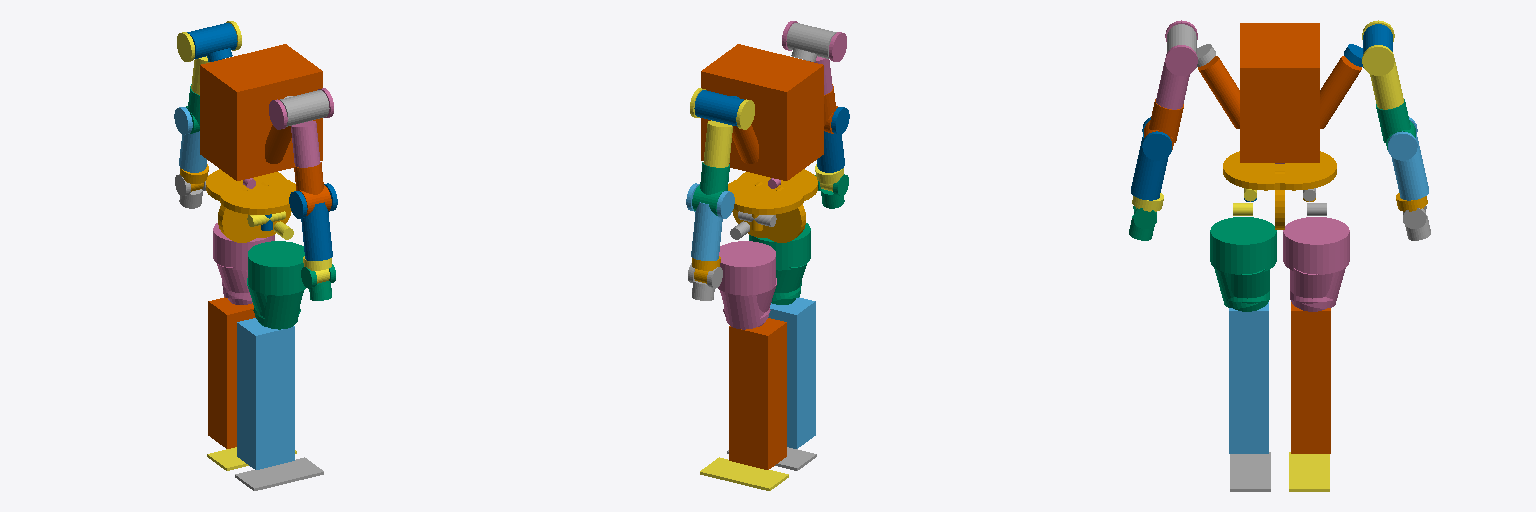
--- What the picture shows (computed from the rendered views, not written in the file) ---
The picture shows the robot from 3 angles, left to right: view 1: azimuth 30°, elevation 25°; view 2: azimuth 150°, elevation 25°; view 3: azimuth 270°, elevation 25°; orthographic projection.
Model atlas.urdf with 57 links and 56 joints (28 revolute, 28 fixed), rooted at base_link, posed every joint at zero.
Visible links, largest first — view 1: Utorso, RLleg, LLleg, RUleg, pelvis, LUleg, RLarm, RScap, RFoot, LClav, LLarm, RClav (+6 smaller); view 2: Utorso, LLleg, RLleg, LUleg, pelvis, RUleg, LLarm, LScap, LFoot, RClav, RLarm, LClav (+6 smaller); view 3: Utorso, RLleg, LLleg, RUleg, LUleg, pelvis, RLarm, LLarm, RScap, LScap, RFoot, LFoot (+6 smaller).
Boxes of the visible links, box(x1,y1,x2,y2) form: Utorso: box(200, 44, 322, 180); RLleg: box(237, 318, 294, 469); LLleg: box(208, 297, 255, 448); RUleg: box(247, 241, 305, 329); pelvis: box(206, 169, 295, 242); LUleg: box(213, 223, 274, 304); RLarm: box(289, 183, 337, 260); RScap: box(269, 88, 333, 167); RFoot: box(235, 457, 323, 490); LClav: box(187, 23, 237, 61); LLarm: box(174, 107, 206, 172); RClav: box(280, 90, 329, 126); Utorso: box(701, 44, 823, 180); LLleg: box(729, 318, 786, 469); RLleg: box(768, 297, 815, 448); LUleg: box(718, 241, 776, 329); pelvis: box(728, 169, 817, 242); RUleg: box(749, 223, 810, 304); LLarm: box(686, 183, 734, 260); LScap: box(690, 88, 754, 167); LFoot: box(700, 457, 788, 490); RClav: box(786, 23, 836, 61); RLarm: box(817, 107, 849, 172); LClav: box(694, 90, 743, 126); Utorso: box(1198, 23, 1361, 162); RLleg: box(1229, 302, 1268, 453); LLleg: box(1291, 302, 1330, 453); RUleg: box(1210, 217, 1276, 311); LUleg: box(1283, 217, 1349, 311); pelvis: box(1223, 151, 1336, 229); RLarm: box(1131, 117, 1171, 200); LLarm: box(1388, 117, 1428, 200); RScap: box(1156, 20, 1197, 109); LScap: box(1362, 20, 1403, 109); RFoot: box(1230, 452, 1270, 491); LFoot: box(1289, 452, 1329, 491).
Bounding box of the posed robot: 0.3215 × 0.9104 × 1.44 m (x, y, z).
Geometry: primitives only (box / cylinder / sphere), no mesh files.

The robot description file, URDF, robot "atlas.urdf":
<?xml version="1.0"?>
<robot name="atlas.urdf" xmlns:xacro="http://ros.org/wiki/xacro">
  <link name="base_link">
  </link>
  <joint name="RLegUhz" type="revolute">
    <parent link="base_link"/>
    <child link="RLegUhz"/>
    <axis xyz="0 0 1"/>
    <limit effort="260" lower="-1.14" upper="0.32" velocity="12"/>
    <origin xyz="0 -0.089 0" rpy="0 0 0"/>
  </joint>
  <link name="RLegUhz">
  </link>
  <joint name="RLegMhx" type="revolute">
    <parent link="RLegUhz"/>
    <child link="solid"/>
    <axis xyz="1 0 0"/>
    <limit effort="180" lower="-0.495" upper="0.47" velocity="12"/>
    <origin xyz="0 0 0" rpy="0 0 0"/>
  </joint>
  <link name="solid">
  </link>
  <joint name="RLegLhy" type="revolute">
    <parent link="solid"/>
    <child link="solid_0"/>
    <axis xyz="0 1 0"/>
    <limit effort="260" lower="-1.745" upper="0.524" velocity="12"/>
    <origin xyz="0.05 0 -0.05" rpy="0 0 0"/>
  </joint>
  <link name="solid_0">
  </link>
  <joint name="RLegKny" type="revolute">
    <parent link="solid_0"/>
    <child link="solid_1"/>
    <axis xyz="0 1 0"/>
    <limit effort="220" lower="0" upper="2.45" velocity="12"/>
    <origin xyz="-0.05 0 -0.374" rpy="0 0 0"/>
  </joint>
  <link name="solid_1">
  </link>
  <joint name="RLegUay" type="revolute">
    <parent link="solid_1"/>
    <child link="solid_2"/>
    <axis xyz="0 1 0"/>
    <limit effort="220" lower="-0.698" upper="0.698" velocity="12"/>
    <origin xyz="0 0 -0.422" rpy="0 0 0"/>
  </joint>
  <link name="solid_2">
  </link>
  <joint name="RLegLax" type="revolute">
    <parent link="solid_2"/>
    <child link="solid_3"/>
    <axis xyz="1 0 0"/>
    <limit effort="90" lower="-0.436" upper="0.436" velocity="12"/>
    <origin xyz="0 0 0" rpy="0 0 0"/>
  </joint>
  <link name="solid_3">
  </link>
  <link name="RFoot">
    <visual>
      <origin xyz="0.048 0 -0.076119" rpy="0 0 0"/>
      <geometry>
        <box size="0.26 0.124887 0.01"/>
      </geometry>
    </visual>
    <collision>
      <origin xyz="0.048 0 -0.076119" rpy="0 0 0"/>
      <geometry>
        <box size="0.26 0.124887 0.01"/>
      </geometry>
    </collision>
  </link>
  <joint name="solid_3_RFoot_joint" type="fixed">
    <parent link="solid_3"/>
    <child link="RFoot"/>
    <origin xyz="0 0 0" rpy="0 0 0"/>
  </joint>
  <link name="RTalus">
    <visual>
      <origin xyz="0 0 0" rpy="3.141193 1.570793 -3.141193"/>
      <geometry>
        <cylinder radius="0.010181" length="0.029542"/>
      </geometry>
    </visual>
    <collision>
      <origin xyz="0 0 0" rpy="3.141193 1.570793 -3.141193"/>
      <geometry>
        <cylinder radius="0.010181" length="0.029542"/>
      </geometry>
    </collision>
    <visual>
      <origin xyz="0 0 0" rpy="1.57 0 0"/>
      <geometry>
        <cylinder radius="0.010348" length="0.010059"/>
      </geometry>
    </visual>
    <collision>
      <origin xyz="0 0 0" rpy="1.57 0 0"/>
      <geometry>
        <cylinder radius="0.010348" length="0.010059"/>
      </geometry>
    </collision>
  </link>
  <joint name="solid_2_RTalus_joint" type="fixed">
    <parent link="solid_2"/>
    <child link="RTalus"/>
    <origin xyz="0 0 0" rpy="0 0 0"/>
  </joint>
  <link name="RLleg">
    <visual>
      <origin xyz="-0.00345 -0.00295 -0.1913" rpy="0 0 0"/>
      <geometry>
        <box size="0.1465 0.1205 0.476"/>
      </geometry>
    </visual>
    <collision>
      <origin xyz="-0.00345 -0.00295 -0.1913" rpy="0 0 0"/>
      <geometry>
        <box size="0.1465 0.1205 0.476"/>
      </geometry>
    </collision>
  </link>
  <joint name="solid_1_RLleg_joint" type="fixed">
    <parent link="solid_1"/>
    <child link="RLleg"/>
    <origin xyz="0 0 0" rpy="0 0 0"/>
  </joint>
  <link name="RUleg">
    <visual>
      <origin xyz="-0.0179 -0.02085 -0.13" rpy="0 0 0"/>
      <geometry>
        <cylinder radius="0.1" length="0.1"/>
      </geometry>
    </visual>
    <collision>
      <origin xyz="-0.0179 -0.02085 -0.13" rpy="0 0 0"/>
      <geometry>
        <cylinder radius="0.1" length="0.1"/>
      </geometry>
    </collision>
    <visual>
      <origin xyz="-0.03 -0.01 -0.23" rpy="-0.0008 -0.299999 0"/>
      <geometry>
        <cylinder radius="0.07" length="0.15"/>
      </geometry>
    </visual>
    <collision>
      <origin xyz="-0.03 -0.01 -0.23" rpy="-0.0008 -0.299999 0"/>
      <geometry>
        <cylinder radius="0.07" length="0.15"/>
      </geometry>
    </collision>
    <visual>
      <origin xyz="-0.005 -0.01 -0.23" rpy="-0.0008 0.299999 0"/>
      <geometry>
        <cylinder radius="0.07" length="0.15"/>
      </geometry>
    </visual>
    <collision>
      <origin xyz="-0.005 -0.01 -0.23" rpy="-0.0008 0.299999 0"/>
      <geometry>
        <cylinder radius="0.07" length="0.15"/>
      </geometry>
    </collision>
    <visual>
      <origin xyz="-0.02 -0.03 -0.23" rpy="0.2492 0 0"/>
      <geometry>
        <cylinder radius="0.07" length="0.15"/>
      </geometry>
    </visual>
    <collision>
      <origin xyz="-0.02 -0.03 -0.23" rpy="0.2492 0 0"/>
      <geometry>
        <cylinder radius="0.07" length="0.15"/>
      </geometry>
    </collision>
  </link>
  <joint name="solid_0_RUleg_joint" type="fixed">
    <parent link="solid_0"/>
    <child link="RUleg"/>
    <origin xyz="0 0 0" rpy="0 0 0"/>
  </joint>
  <link name="RLglut">
    <visual>
      <origin xyz="0.049968 -0.022488 -0.050117" rpy="1.5708 0 0"/>
      <geometry>
        <cylinder radius="0.0200969" length="0.060306"/>
      </geometry>
    </visual>
    <collision>
      <origin xyz="0.049968 -0.022488 -0.050117" rpy="1.5708 0 0"/>
      <geometry>
        <cylinder radius="0.0200969" length="0.060306"/>
      </geometry>
    </collision>
    <visual>
      <origin xyz="0 0 0" rpy="3.141193 1.570793 -3.141193"/>
      <geometry>
        <cylinder radius="0.02" length="0.12"/>
      </geometry>
    </visual>
    <collision>
      <origin xyz="0 0 0" rpy="3.141193 1.570793 -3.141193"/>
      <geometry>
        <cylinder radius="0.02" length="0.12"/>
      </geometry>
    </collision>
  </link>
  <joint name="solid_RLglut_joint" type="fixed">
    <parent link="solid"/>
    <child link="RLglut"/>
    <origin xyz="0 0 0" rpy="0 0 0"/>
  </joint>
  <link name="RUglut">
    <visual>
      <origin xyz="0 0 0" rpy="3.141193 1.570793 -3.141193"/>
      <geometry>
        <cylinder radius="0.019096" length="0.078396"/>
      </geometry>
    </visual>
    <collision>
      <origin xyz="0 0 0" rpy="3.141193 1.570793 -3.141193"/>
      <geometry>
        <cylinder radius="0.019096" length="0.078396"/>
      </geometry>
    </collision>
    <visual>
      <geometry>
        <cylinder radius="0.019841" length="0.080842"/>
      </geometry>
    </visual>
    <collision>
      <geometry>
        <cylinder radius="0.019841" length="0.080842"/>
      </geometry>
    </collision>
  </link>
  <joint name="RLegUhz_RUglut_joint" type="fixed">
    <parent link="RLegUhz"/>
    <child link="RUglut"/>
    <origin xyz="0 0 0" rpy="0 0 0"/>
  </joint>
  <joint name="LLegUhz" type="revolute">
    <parent link="base_link"/>
    <child link="LLegUhz"/>
    <axis xyz="0 0 1"/>
    <limit effort="110" lower="-0.32" upper="1.14" velocity="12"/>
    <origin xyz="0 0.089 0" rpy="0 0 0"/>
  </joint>
  <link name="LLegUhz">
  </link>
  <joint name="LLegMhx" type="revolute">
    <parent link="LLegUhz"/>
    <child link="solid_4"/>
    <axis xyz="1 0 0"/>
    <limit effort="180" lower="-0.47" upper="0.495" velocity="12"/>
    <origin xyz="0 0 0" rpy="0 0 0"/>
  </joint>
  <link name="solid_4">
  </link>
  <joint name="LLegLhy" type="revolute">
    <parent link="solid_4"/>
    <child link="solid_5"/>
    <axis xyz="0 1 0"/>
    <limit effort="260" lower="-1.75" upper="0.524" velocity="12"/>
    <origin xyz="0.05 0 -0.05" rpy="0 0 0"/>
  </joint>
  <link name="solid_5">
  </link>
  <joint name="LLegKny" type="revolute">
    <parent link="solid_5"/>
    <child link="solid_6"/>
    <axis xyz="0 1 0"/>
    <limit effort="220" lower="0" upper="2.45" velocity="12"/>
    <origin xyz="-0.05 0 -0.374" rpy="0 0 0"/>
  </joint>
  <link name="solid_6">
  </link>
  <joint name="LLegUay" type="revolute">
    <parent link="solid_6"/>
    <child link="solid_7"/>
    <axis xyz="0 1 0"/>
    <limit effort="220" lower="-0.698" upper="0.698" velocity="12"/>
    <origin xyz="0 0 -0.422" rpy="0 0 0"/>
  </joint>
  <link name="solid_7">
  </link>
  <joint name="LLegLax" type="revolute">
    <parent link="solid_7"/>
    <child link="solid_8"/>
    <axis xyz="1 0 0"/>
    <limit effort="90" lower="-0.436" upper="0.436" velocity="12"/>
    <origin xyz="0 0 0" rpy="0 0 0"/>
  </joint>
  <link name="solid_8">
  </link>
  <link name="LFoot">
    <visual>
      <origin xyz="0.048 0 -0.076119" rpy="0 0 0"/>
      <geometry>
        <box size="0.26 0.124887 0.01"/>
      </geometry>
    </visual>
    <collision>
      <origin xyz="0.048 0 -0.076119" rpy="0 0 0"/>
      <geometry>
        <box size="0.26 0.124887 0.01"/>
      </geometry>
    </collision>
  </link>
  <joint name="solid_8_LFoot_joint" type="fixed">
    <parent link="solid_8"/>
    <child link="LFoot"/>
    <origin xyz="0 0 0" rpy="0 0 0"/>
  </joint>
  <link name="LTalus">
    <visual>
      <origin xyz="0 0 0" rpy="3.141193 1.570793 -3.141193"/>
      <geometry>
        <cylinder radius="0.010181" length="0.029542"/>
      </geometry>
    </visual>
    <collision>
      <origin xyz="0 0 0" rpy="3.141193 1.570793 -3.141193"/>
      <geometry>
        <cylinder radius="0.010181" length="0.029542"/>
      </geometry>
    </collision>
    <visual>
      <origin xyz="0 0 0" rpy="1.5708 0 0"/>
      <geometry>
        <cylinder radius="0.010348" length="0.010059"/>
      </geometry>
    </visual>
    <collision>
      <origin xyz="0 0 0" rpy="1.5708 0 0"/>
      <geometry>
        <cylinder radius="0.010348" length="0.010059"/>
      </geometry>
    </collision>
  </link>
  <joint name="solid_7_LTalus_joint" type="fixed">
    <parent link="solid_7"/>
    <child link="LTalus"/>
    <origin xyz="0 0 0" rpy="0 0 0"/>
  </joint>
  <link name="LLleg">
    <visual>
      <origin xyz="-0.00345 0.00295 -0.1913" rpy="0 0 0"/>
      <geometry>
        <box size="0.1465 0.1205 0.476"/>
      </geometry>
    </visual>
    <collision>
      <origin xyz="-0.00345 0.00295 -0.1913" rpy="0 0 0"/>
      <geometry>
        <box size="0.1465 0.1205 0.476"/>
      </geometry>
    </collision>
  </link>
  <joint name="solid_6_LLleg_joint" type="fixed">
    <parent link="solid_6"/>
    <child link="LLleg"/>
    <origin xyz="0 0 0" rpy="0 0 0"/>
  </joint>
  <link name="LUleg">
    <visual>
      <origin xyz="-0.0179 0.02085 -0.13" rpy="0 0 0"/>
      <geometry>
        <cylinder radius="0.1" length="0.1"/>
      </geometry>
    </visual>
    <collision>
      <origin xyz="-0.0179 0.02085 -0.13" rpy="0 0 0"/>
      <geometry>
        <cylinder radius="0.1" length="0.1"/>
      </geometry>
    </collision>
    <visual>
      <origin xyz="-0.03 0.01 -0.23" rpy="-0.0008 -0.299999 0"/>
      <geometry>
        <cylinder radius="0.07" length="0.15"/>
      </geometry>
    </visual>
    <collision>
      <origin xyz="-0.03 0.01 -0.23" rpy="-0.0008 -0.299999 0"/>
      <geometry>
        <cylinder radius="0.07" length="0.15"/>
      </geometry>
    </collision>
    <visual>
      <origin xyz="-0.005 0.01 -0.23" rpy="-0.0008 0.299999 0"/>
      <geometry>
        <cylinder radius="0.07" length="0.15"/>
      </geometry>
    </visual>
    <collision>
      <origin xyz="-0.005 0.01 -0.23" rpy="-0.0008 0.299999 0"/>
      <geometry>
        <cylinder radius="0.07" length="0.15"/>
      </geometry>
    </collision>
    <visual>
      <origin xyz="-0.02 0.03 -0.23" rpy="-0.2508 0 0"/>
      <geometry>
        <cylinder radius="0.07" length="0.15"/>
      </geometry>
    </visual>
    <collision>
      <origin xyz="-0.02 0.03 -0.23" rpy="-0.2508 0 0"/>
      <geometry>
        <cylinder radius="0.07" length="0.15"/>
      </geometry>
    </collision>
  </link>
  <joint name="solid_5_LUleg_joint" type="fixed">
    <parent link="solid_5"/>
    <child link="LUleg"/>
    <origin xyz="0 0 0" rpy="0 0 0"/>
  </joint>
  <link name="LLglut">
    <visual>
      <origin xyz="0.049968 0.022488 -0.050117" rpy="1.5708 0 0"/>
      <geometry>
        <cylinder radius="0.0200969" length="0.060306"/>
      </geometry>
    </visual>
    <collision>
      <origin xyz="0.049968 0.022488 -0.050117" rpy="1.5708 0 0"/>
      <geometry>
        <cylinder radius="0.0200969" length="0.060306"/>
      </geometry>
    </collision>
    <visual>
      <origin xyz="0 0 0" rpy="3.141193 1.570793 -3.141193"/>
      <geometry>
        <cylinder radius="0.02" length="0.12"/>
      </geometry>
    </visual>
    <collision>
      <origin xyz="0 0 0" rpy="3.141193 1.570793 -3.141193"/>
      <geometry>
        <cylinder radius="0.02" length="0.12"/>
      </geometry>
    </collision>
  </link>
  <joint name="solid_4_LLglut_joint" type="fixed">
    <parent link="solid_4"/>
    <child link="LLglut"/>
    <origin xyz="0 0 0" rpy="0 0 0"/>
  </joint>
  <link name="LUglut">
    <visual>
      <origin xyz="0 0 0" rpy="3.141193 1.570793 -3.141193"/>
      <geometry>
        <cylinder radius="0.019096" length="0.078396"/>
      </geometry>
    </visual>
    <collision>
      <origin xyz="0 0 0" rpy="3.141193 1.570793 -3.141193"/>
      <geometry>
        <cylinder radius="0.019096" length="0.078396"/>
      </geometry>
    </collision>
    <visual>
      <geometry>
        <cylinder radius="0.019841" length="0.080842"/>
      </geometry>
    </visual>
    <collision>
      <geometry>
        <cylinder radius="0.019841" length="0.080842"/>
      </geometry>
    </collision>
  </link>
  <joint name="LLegUhz_LUglut_joint" type="fixed">
    <parent link="LLegUhz"/>
    <child link="LUglut"/>
    <origin xyz="0 0 0" rpy="0 0 0"/>
  </joint>
  <joint name="BackLbz" type="revolute">
    <parent link="base_link"/>
    <child link="BackLbz"/>
    <axis xyz="0 0 1"/>
    <limit effort="124.016" lower="-0.610865" upper="0.610865" velocity="12"/>
    <origin xyz="-0.0125 0 0" rpy="0 0 0"/>
  </joint>
  <link name="BackLbz">
  </link>
  <joint name="BackMby" type="revolute">
    <parent link="BackLbz"/>
    <child link="solid_9"/>
    <axis xyz="0 1 0"/>
    <limit effort="206.843" lower="-1.2" upper="1.28" velocity="12"/>
    <origin xyz="0 0 0.09" rpy="0 0 0"/>
  </joint>
  <link name="solid_9">
  </link>
  <joint name="BackUbx" type="revolute">
    <parent link="solid_9"/>
    <child link="solid_10"/>
    <axis xyz="1 0 0"/>
    <limit effort="94.91" lower="-0.790809" upper="0.790809" velocity="12"/>
    <origin xyz="0 0 0.05" rpy="0 0 0"/>
  </joint>
  <link name="solid_10">
  </link>
  <joint name="RArmUsy" type="revolute">
    <parent link="solid_10"/>
    <child link="RArmUsy"/>
    <axis xyz="0 0.5 -0.866025"/>
    <limit effort="212" lower="-1.9635" upper="1.9635" velocity="12"/>
    <origin xyz="0.024 -0.221 0.289" rpy="0 0 0"/>
  </joint>
  <link name="RArmUsy">
  </link>
  <joint name="RArmShx" type="revolute">
    <parent link="RArmUsy"/>
    <child link="solid_11"/>
    <axis xyz="1 0 0"/>
    <limit effort="170" lower="-1.74533" upper="1.39626" velocity="12"/>
    <origin xyz="0 -0.075 0.036" rpy="1.373484 0 0"/>
  </joint>
  <link name="solid_11">
  </link>
  <joint name="RArmEly" type="revolute">
    <parent link="solid_11"/>
    <child link="solid_12"/>
    <axis xyz="0 1 0"/>
    <limit effort="114" lower="0" upper="3.14159" velocity="12"/>
    <origin xyz="0 -0.185 0" rpy="0 0 0"/>
  </joint>
  <link name="solid_12">
  </link>
  <joint name="RArmElx" type="revolute">
    <parent link="solid_12"/>
    <child link="solid_13"/>
    <axis xyz="1 0 0"/>
    <limit effort="114" lower="-2.35619" upper="0" velocity="12"/>
    <origin xyz="0 -0.121 0.013" rpy="0 0 0"/>
  </joint>
  <link name="solid_13">
  </link>
  <joint name="RArmUwy" type="revolute">
    <parent link="solid_13"/>
    <child link="solid_14"/>
    <axis xyz="0 1 0"/>
    <limit effort="114" lower="-1.571" upper="1.571" velocity="12"/>
    <origin xyz="0 -0.188 -0.013" rpy="0 0 0"/>
  </joint>
  <link name="solid_14">
  </link>
  <joint name="RArmMwx" type="revolute">
    <parent link="solid_14"/>
    <child link="solid_15"/>
    <axis xyz="1 0 0"/>
    <limit effort="60" lower="-1.571" upper="0.436" velocity="12"/>
    <origin xyz="0 -0.058 0" rpy="0 0 0"/>
  </joint>
  <link name="solid_15">
  </link>
  <link name="RHand">
    <visual>
      <origin xyz="0 -0.052695 0" rpy="1.5708 0 0"/>
      <geometry>
        <cylinder radius="0.035939" length="0.055117"/>
      </geometry>
    </visual>
    <collision>
      <origin xyz="0 -0.052695 0" rpy="1.5708 0 0"/>
      <geometry>
        <cylinder radius="0.035939" length="0.055117"/>
      </geometry>
    </collision>
    <visual>
      <origin xyz="0.034375 -0.002643 0" rpy="3.141193 1.570793 -3.141193"/>
      <geometry>
        <cylinder radius="0.035939" length="0.019"/>
      </geometry>
    </visual>
    <collision>
      <origin xyz="0.034375 -0.002643 0" rpy="3.141193 1.570793 -3.141193"/>
      <geometry>
        <cylinder radius="0.035939" length="0.019"/>
      </geometry>
    </collision>
    <visual>
      <origin xyz="-0.036595 -0.002643 0" rpy="3.141193 1.570793 -3.141193"/>
      <geometry>
        <cylinder radius="0.035939" length="0.019"/>
      </geometry>
    </visual>
    <collision>
      <origin xyz="-0.036595 -0.002643 0" rpy="3.141193 1.570793 -3.141193"/>
      <geometry>
        <cylinder radius="0.035939" length="0.019"/>
      </geometry>
    </collision>
  </link>
  <joint name="solid_15_RHand_joint" type="fixed">
    <parent link="solid_15"/>
    <child link="RHand"/>
    <origin xyz="0 0 0" rpy="0 0 0"/>
  </joint>
  <link name="RFarm">
    <visual>
      <origin xyz="0 -0.017421 0" rpy="1.5708 0 0"/>
      <geometry>
        <cylinder radius="0.0458825" length="0.035181"/>
      </geometry>
    </visual>
    <collision>
      <origin xyz="0 -0.017421 0" rpy="1.5708 0 0"/>
      <geometry>
        <cylinder radius="0.0458825" length="0.035181"/>
      </geometry>
    </collision>
    <visual>
      <origin xyz="0.000226 -0.06028 0" rpy="3.141193 1.570793 -3.141193"/>
      <geometry>
        <cylinder radius="0.0279" length="0.050472"/>
      </geometry>
    </visual>
    <collision>
      <origin xyz="0.000226 -0.06028 0" rpy="3.141193 1.570793 -3.141193"/>
      <geometry>
        <cylinder radius="0.0279" length="0.050472"/>
      </geometry>
    </collision>
  </link>
  <joint name="solid_14_RFarm_joint" type="fixed">
    <parent link="solid_14"/>
    <child link="RFarm"/>
    <origin xyz="0 0 0" rpy="0 0 0"/>
  </joint>
  <link name="RLarm">
    <visual>
      <origin xyz="0.056065 0 0" rpy="3.141193 1.570793 -3.141193"/>
      <geometry>
        <cylinder radius="0.045" length="0.0161"/>
      </geometry>
    </visual>
    <collision>
      <origin xyz="0.056065 0 0" rpy="3.141193 1.570793 -3.141193"/>
      <geometry>
        <cylinder radius="0.045" length="0.0161"/>
      </geometry>
    </collision>
    <visual>
      <origin xyz="-0.055615 0 0" rpy="3.141193 1.570793 -3.141193"/>
      <geometry>
        <cylinder radius="0.045" length="0.0161"/>
      </geometry>
    </visual>
    <collision>
      <origin xyz="-0.055615 0 0" rpy="3.141193 1.570793 -3.141193"/>
      <geometry>
        <cylinder radius="0.045" length="0.0161"/>
      </geometry>
    </collision>
    <visual>
      <origin xyz="0 -0.094052 0" rpy="1.5708 0 0"/>
      <geometry>
        <cylinder radius="0.045" length="0.188105"/>
      </geometry>
    </visual>
    <collision>
      <origin xyz="0 -0.094052 0" rpy="1.5708 0 0"/>
      <geometry>
        <cylinder radius="0.045" length="0.188105"/>
      </geometry>
    </collision>
  </link>
  <joint name="solid_13_RLarm_joint" type="fixed">
    <parent link="solid_13"/>
    <child link="RLarm"/>
    <origin xyz="0 0 0" rpy="0 0 0"/>
  </joint>
  <link name="RUarm">
    <visual>
      <origin xyz="0 -0.058339 0" rpy="1.5708 0 0"/>
      <geometry>
        <cylinder radius="0.0449" length="0.116677"/>
      </geometry>
    </visual>
    <collision>
      <origin xyz="0 -0.058339 0" rpy="1.5708 0 0"/>
      <geometry>
        <cylinder radius="0.0449" length="0.116677"/>
      </geometry>
    </collision>
    <visual>
      <origin xyz="0 -0.120524 0.00913" rpy="3.141193 1.570793 -3.141193"/>
      <geometry>
        <cylinder radius="0.0450485" length="0.088934"/>
      </geometry>
    </visual>
    <collision>
      <origin xyz="0 -0.120524 0.00913" rpy="3.141193 1.570793 -3.141193"/>
      <geometry>
        <cylinder radius="0.0450485" length="0.088934"/>
      </geometry>
    </collision>
  </link>
  <joint name="solid_12_RUarm_joint" type="fixed">
    <parent link="solid_12"/>
    <child link="RUarm"/>
    <origin xyz="0 0 0" rpy="0 0 0"/>
  </joint>
  <link name="RScap">
    <visual>
      <origin xyz="0 -0.118521 0" rpy="1.5708 0 0"/>
      <geometry>
        <cylinder radius="0.0418405" length="0.137492"/>
      </geometry>
    </visual>
    <collision>
      <origin xyz="0 -0.118521 0" rpy="1.5708 0 0"/>
      <geometry>
        <cylinder radius="0.0418405" length="0.137492"/>
      </geometry>
    </collision>
    <visual>
      <origin xyz="-0.088413 0 0" rpy="3.141193 1.570793 -3.141193"/>
      <geometry>
        <cylinder radius="0.048709" length="0.013937"/>
      </geometry>
    </visual>
    <collision>
      <origin xyz="-0.088413 0 0" rpy="3.141193 1.570793 -3.141193"/>
      <geometry>
        <cylinder radius="0.048709" length="0.013937"/>
      </geometry>
    </collision>
    <visual>
      <origin xyz="0.084756 0 0" rpy="3.141193 1.570793 -3.141193"/>
      <geometry>
        <cylinder radius="0.048709" length="0.013737"/>
      </geometry>
    </visual>
    <collision>
      <origin xyz="0.084756 0 0" rpy="3.141193 1.570793 -3.141193"/>
      <geometry>
        <cylinder radius="0.048709" length="0.013737"/>
      </geometry>
    </collision>
  </link>
  <joint name="solid_11_RScap_joint" type="fixed">
    <parent link="solid_11"/>
    <child link="RScap"/>
    <origin xyz="0 0 0" rpy="0 0 0"/>
  </joint>
  <link name="RClav">
    <visual>
      <origin xyz="0 -0.0744 0.03657" rpy="3.141193 1.570793 -3.141193"/>
      <geometry>
        <cylinder radius="0.045" length="0.1525"/>
      </geometry>
    </visual>
    <collision>
      <origin xyz="0 -0.0744 0.03657" rpy="3.141193 1.570793 -3.141193"/>
      <geometry>
        <cylinder radius="0.045" length="0.1525"/>
      </geometry>
    </collision>
    <visual>
      <origin xyz="0 -0.012 0.012" rpy="0.5228 0 0"/>
      <geometry>
        <cylinder radius="0.04" length="0.027"/>
      </geometry>
    </visual>
    <collision>
      <origin xyz="0 -0.012 0.012" rpy="0.5228 0 0"/>
      <geometry>
        <cylinder radius="0.04" length="0.027"/>
      </geometry>
    </collision>
  </link>
  <joint name="RArmUsy_RClav_joint" type="fixed">
    <parent link="RArmUsy"/>
    <child link="RClav"/>
    <origin xyz="0 0 0" rpy="0 0 0"/>
  </joint>
  <joint name="NeckAy" type="revolute">
    <parent link="solid_10"/>
    <child link="NeckAy"/>
    <axis xyz="0 1 0"/>
    <limit effort="5" lower="-0.610865" upper="1.13446" velocity="12"/>
    <origin xyz="0.01 0 0.43" rpy="0 0 0"/>
  </joint>
  <link name="NeckAy">
  </link>
  <joint name="LArmUsy" type="revolute">
    <parent link="solid_10"/>
    <child link="LArmUsy"/>
    <axis xyz="0 0.5 0.866025"/>
    <limit effort="212" lower="-1.9635" upper="1.9635" velocity="12"/>
    <origin xyz="0.024 0.221 0.289" rpy="0 0 0"/>
  </joint>
  <link name="LArmUsy">
  </link>
  <joint name="LArmShx" type="revolute">
    <parent link="LArmUsy"/>
    <child link="solid_16"/>
    <axis xyz="1 0 0"/>
    <limit effort="170" lower="-1.39626" upper="1.74533" velocity="12"/>
    <origin xyz="0 0.075 0.036" rpy="-1.373484 0 0"/>
  </joint>
  <link name="solid_16">
  </link>
  <joint name="LArmEly" type="revolute">
    <parent link="solid_16"/>
    <child link="solid_17"/>
    <axis xyz="0 1 0"/>
    <limit effort="114" lower="0" upper="3.14159" velocity="12"/>
    <origin xyz="0 0.185 0" rpy="0 0 0"/>
  </joint>
  <link name="solid_17">
  </link>
  <joint name="LArmElx" type="revolute">
    <parent link="solid_17"/>
    <child link="solid_18"/>
    <axis xyz="1 0 0"/>
    <limit effort="114" lower="0" upper="2.35619" velocity="12"/>
    <origin xyz="0 0.121 0.013" rpy="0 0 0"/>
  </joint>
  <link name="solid_18">
  </link>
  <joint name="LArmUwy" type="revolute">
    <parent link="solid_18"/>
    <child link="solid_19"/>
    <axis xyz="0 1 0"/>
    <limit effort="114" lower="-1.571" upper="1.571" velocity="12"/>
    <origin xyz="0 0.188 -0.013" rpy="0 0 0"/>
  </joint>
  <link name="solid_19">
  </link>
  <joint name="LArmMwx" type="revolute">
    <parent link="solid_19"/>
    <child link="solid_20"/>
    <axis xyz="1 0 0"/>
    <limit effort="60" lower="-0.436" upper="1.571" velocity="12"/>
    <origin xyz="0 0.058 0" rpy="0 0 0"/>
  </joint>
  <link name="solid_20">
  </link>
  <link name="LHand">
    <visual>
      <origin xyz="0 0.052695 0" rpy="1.5708 0 0"/>
      <geometry>
        <cylinder radius="0.035939" length="0.055117"/>
      </geometry>
    </visual>
    <collision>
      <origin xyz="0 0.052695 0" rpy="1.5708 0 0"/>
      <geometry>
        <cylinder radius="0.035939" length="0.055117"/>
      </geometry>
    </collision>
    <visual>
      <origin xyz="0.034375 0.002643 0" rpy="3.141193 1.570793 -3.141193"/>
      <geometry>
        <cylinder radius="0.035939" length="0.019"/>
      </geometry>
    </visual>
    <collision>
      <origin xyz="0.034375 0.002643 0" rpy="3.141193 1.570793 -3.141193"/>
      <geometry>
        <cylinder radius="0.035939" length="0.019"/>
      </geometry>
    </collision>
    <visual>
      <origin xyz="-0.036595 0.002643 0" rpy="3.141193 1.570793 -3.141193"/>
      <geometry>
        <cylinder radius="0.035939" length="0.019"/>
      </geometry>
    </visual>
    <collision>
      <origin xyz="-0.036595 0.002643 0" rpy="3.141193 1.570793 -3.141193"/>
      <geometry>
        <cylinder radius="0.035939" length="0.019"/>
      </geometry>
    </collision>
  </link>
  <joint name="solid_20_LHand_joint" type="fixed">
    <parent link="solid_20"/>
    <child link="LHand"/>
    <origin xyz="0 0 0" rpy="0 0 0"/>
  </joint>
  <link name="LFarm">
    <visual>
      <origin xyz="0 0.017421 0" rpy="1.5708 0 0"/>
      <geometry>
        <cylinder radius="0.0458825" length="0.035181"/>
      </geometry>
    </visual>
    <collision>
      <origin xyz="0 0.017421 0" rpy="1.5708 0 0"/>
      <geometry>
        <cylinder radius="0.0458825" length="0.035181"/>
      </geometry>
    </collision>
    <visual>
      <origin xyz="0.000226 0.06028 0" rpy="3.141193 1.570793 -3.141193"/>
      <geometry>
        <cylinder radius="0.0279" length="0.050472"/>
      </geometry>
    </visual>
    <collision>
      <origin xyz="0.000226 0.06028 0" rpy="3.141193 1.570793 -3.141193"/>
      <geometry>
        <cylinder radius="0.0279" length="0.050472"/>
      </geometry>
    </collision>
  </link>
  <joint name="solid_19_LFarm_joint" type="fixed">
    <parent link="solid_19"/>
    <child link="LFarm"/>
    <origin xyz="0 0 0" rpy="0 0 0"/>
  </joint>
  <link name="LLarm">
    <visual>
      <origin xyz="0.056065 0 0" rpy="3.141193 1.570793 -3.141193"/>
      <geometry>
        <cylinder radius="0.045" length="0.0161"/>
      </geometry>
    </visual>
    <collision>
      <origin xyz="0.056065 0 0" rpy="3.141193 1.570793 -3.141193"/>
      <geometry>
        <cylinder radius="0.045" length="0.0161"/>
      </geometry>
    </collision>
    <visual>
      <origin xyz="-0.055615 0 0" rpy="3.141193 1.570793 -3.141193"/>
      <geometry>
        <cylinder radius="0.045" length="0.0161"/>
      </geometry>
    </visual>
    <collision>
      <origin xyz="-0.055615 0 0" rpy="3.141193 1.570793 -3.141193"/>
      <geometry>
        <cylinder radius="0.045" length="0.0161"/>
      </geometry>
    </collision>
    <visual>
      <origin xyz="0 0.094052 0" rpy="1.5708 0 0"/>
      <geometry>
        <cylinder radius="0.045" length="0.188105"/>
      </geometry>
    </visual>
    <collision>
      <origin xyz="0 0.094052 0" rpy="1.5708 0 0"/>
      <geometry>
        <cylinder radius="0.045" length="0.188105"/>
      </geometry>
    </collision>
  </link>
  <joint name="solid_18_LLarm_joint" type="fixed">
    <parent link="solid_18"/>
    <child link="LLarm"/>
    <origin xyz="0 0 0" rpy="0 0 0"/>
  </joint>
  <link name="LUarm">
    <visual>
      <origin xyz="0 0.058339 0" rpy="1.5708 0 0"/>
      <geometry>
        <cylinder radius="0.0449" length="0.116677"/>
      </geometry>
    </visual>
    <collision>
      <origin xyz="0 0.058339 0" rpy="1.5708 0 0"/>
      <geometry>
        <cylinder radius="0.0449" length="0.116677"/>
      </geometry>
    </collision>
    <visual>
      <origin xyz="0 0.120524 0.00913" rpy="3.141193 1.570793 -3.141193"/>
      <geometry>
        <cylinder radius="0.0450485" length="0.088934"/>
      </geometry>
    </visual>
    <collision>
      <origin xyz="0 0.120524 0.00913" rpy="3.141193 1.570793 -3.141193"/>
      <geometry>
        <cylinder radius="0.0450485" length="0.088934"/>
      </geometry>
    </collision>
  </link>
  <joint name="solid_17_LUarm_joint" type="fixed">
    <parent link="solid_17"/>
    <child link="LUarm"/>
    <origin xyz="0 0 0" rpy="0 0 0"/>
  </joint>
  <link name="LScap">
    <visual>
      <origin xyz="0 0.118521 0" rpy="1.5708 0 0"/>
      <geometry>
        <cylinder radius="0.0418405" length="0.137492"/>
      </geometry>
    </visual>
    <collision>
      <origin xyz="0 0.118521 0" rpy="1.5708 0 0"/>
      <geometry>
        <cylinder radius="0.0418405" length="0.137492"/>
      </geometry>
    </collision>
    <visual>
      <origin xyz="-0.088413 0 0" rpy="3.141193 1.570793 -3.141193"/>
      <geometry>
        <cylinder radius="0.048709" length="0.013937"/>
      </geometry>
    </visual>
    <collision>
      <origin xyz="-0.088413 0 0" rpy="3.141193 1.570793 -3.141193"/>
      <geometry>
        <cylinder radius="0.048709" length="0.013937"/>
      </geometry>
    </collision>
    <visual>
      <origin xyz="0.084756 0 0" rpy="3.141193 1.570793 -3.141193"/>
      <geometry>
        <cylinder radius="0.048709" length="0.013737"/>
      </geometry>
    </visual>
    <collision>
      <origin xyz="0.084756 0 0" rpy="3.141193 1.570793 -3.141193"/>
      <geometry>
        <cylinder radius="0.048709" length="0.013737"/>
      </geometry>
    </collision>
  </link>
  <joint name="solid_16_LScap_joint" type="fixed">
    <parent link="solid_16"/>
    <child link="LScap"/>
    <origin xyz="0 0 0" rpy="0 0 0"/>
  </joint>
  <link name="LClav">
    <visual>
      <origin xyz="0 0.0744 0.03657" rpy="3.141193 1.570793 -3.141193"/>
      <geometry>
        <cylinder radius="0.045" length="0.1525"/>
      </geometry>
    </visual>
    <collision>
      <origin xyz="0 0.0744 0.03657" rpy="3.141193 1.570793 -3.141193"/>
      <geometry>
        <cylinder radius="0.045" length="0.1525"/>
      </geometry>
    </collision>
    <visual>
      <origin xyz="0 0.012 0.012" rpy="-0.5244 0 0"/>
      <geometry>
        <cylinder radius="0.04" length="0.027"/>
      </geometry>
    </visual>
    <collision>
      <origin xyz="0 0.012 0.012" rpy="-0.5244 0 0"/>
      <geometry>
        <cylinder radius="0.04" length="0.027"/>
      </geometry>
    </collision>
  </link>
  <joint name="LArmUsy_LClav_joint" type="fixed">
    <parent link="LArmUsy"/>
    <child link="LClav"/>
    <origin xyz="0 0 0" rpy="0 0 0"/>
  </joint>
  <link name="Utorso">
    <visual>
      <origin xyz="0.0446 0 0.1869" rpy="0 0 0"/>
      <geometry>
        <box size="0.3188 0.24 0.3162"/>
      </geometry>
    </visual>
    <collision>
      <origin xyz="0.0446 0 0.1869" rpy="0 0 0"/>
      <geometry>
        <box size="0.3188 0.24 0.3162"/>
      </geometry>
    </collision>
    <visual>
      <origin xyz="0.024 0.16 0.18" rpy="-0.5244 0 0"/>
      <geometry>
        <cylinder radius="0.0363" length="0.22375"/>
      </geometry>
    </visual>
    <collision>
      <origin xyz="0.024 0.16 0.18" rpy="-0.5244 0 0"/>
      <geometry>
        <cylinder radius="0.0363" length="0.22375"/>
      </geometry>
    </collision>
    <visual>
      <origin xyz="0.024 -0.16 0.18" rpy="0.5228 0 0"/>
      <geometry>
        <cylinder radius="0.0363" length="0.22375"/>
      </geometry>
    </visual>
    <collision>
      <origin xyz="0.024 -0.16 0.18" rpy="0.5228 0 0"/>
      <geometry>
        <cylinder radius="0.0363" length="0.22375"/>
      </geometry>
    </collision>
  </link>
  <joint name="solid_10_Utorso_joint" type="fixed">
    <parent link="solid_10"/>
    <child link="Utorso"/>
    <origin xyz="0 0 0" rpy="0 0 0"/>
  </joint>
  <link name="Mtorso">
    <visual>
      <origin xyz="0 0 0" rpy="1.5708 0 0"/>
      <geometry>
        <cylinder radius="0.017" length="0.03"/>
      </geometry>
    </visual>
    <collision>
      <origin xyz="0 0 0" rpy="1.5708 0 0"/>
      <geometry>
        <cylinder radius="0.017" length="0.03"/>
      </geometry>
    </collision>
    <visual>
      <origin xyz="0.0285 0 0.05" rpy="3.141193 1.570793 -3.141193"/>
      <geometry>
        <cylinder radius="0.015" length="0.02"/>
      </geometry>
    </visual>
    <collision>
      <origin xyz="0.0285 0 0.05" rpy="3.141193 1.570793 -3.141193"/>
      <geometry>
        <cylinder radius="0.015" length="0.02"/>
      </geometry>
    </collision>
    <visual>
      <origin xyz="-0.0285 0 0.05" rpy="3.141193 1.570793 -3.141193"/>
      <geometry>
        <cylinder radius="0.015" length="0.02"/>
      </geometry>
    </visual>
    <collision>
      <origin xyz="-0.0285 0 0.05" rpy="3.141193 1.570793 -3.141193"/>
      <geometry>
        <cylinder radius="0.015" length="0.02"/>
      </geometry>
    </collision>
  </link>
  <joint name="solid_9_Mtorso_joint" type="fixed">
    <parent link="solid_9"/>
    <child link="Mtorso"/>
    <origin xyz="0 0 0" rpy="0 0 0"/>
  </joint>
  <link name="Ltorso">
    <visual>
      <geometry>
        <sphere radius="0.01"/>
      </geometry>
    </visual>
    <collision>
      <geometry>
        <sphere radius="0.01"/>
      </geometry>
    </collision>
  </link>
  <joint name="BackLbz_Ltorso_joint" type="fixed">
    <parent link="BackLbz"/>
    <child link="Ltorso"/>
    <origin xyz="0 0 0" rpy="0 0 0"/>
  </joint>
  <link name="pelvis">
    <visual>
      <origin xyz="0.046 0 -0.02" rpy="1.5708 0 0"/>
      <geometry>
        <cylinder radius="0.092" length="0.03"/>
      </geometry>
    </visual>
    <collision>
      <origin xyz="0.046 0 -0.02" rpy="1.5708 0 0"/>
      <geometry>
        <cylinder radius="0.092" length="0.03"/>
      </geometry>
    </collision>
    <visual>
      <origin xyz="-0.03 0 -0.02" rpy="1.5708 0 0"/>
      <geometry>
        <cylinder radius="0.092" length="0.03"/>
      </geometry>
    </visual>
    <collision>
      <origin xyz="-0.03 0 -0.02" rpy="1.5708 0 0"/>
      <geometry>
        <cylinder radius="0.092" length="0.03"/>
      </geometry>
    </collision>
    <visual>
      <origin xyz="0 0.042 0.06" rpy="0 0 0"/>
      <geometry>
        <cylinder radius="0.13" length="0.022"/>
      </geometry>
    </visual>
    <collision>
      <origin xyz="0 0.042 0.06" rpy="0 0 0"/>
      <geometry>
        <cylinder radius="0.13" length="0.022"/>
      </geometry>
    </collision>
    <visual>
      <origin xyz="0 -0.042 0.06" rpy="0 0 0"/>
      <geometry>
        <cylinder radius="0.13" length="0.022"/>
      </geometry>
    </visual>
    <collision>
      <origin xyz="0 -0.042 0.06" rpy="0 0 0"/>
      <geometry>
        <cylinder radius="0.13" length="0.022"/>
      </geometry>
    </collision>
  </link>
  <joint name="base_link_pelvis_joint" type="fixed">
    <parent link="base_link"/>
    <child link="pelvis"/>
    <origin xyz="0 0 0" rpy="0 0 0"/>
  </joint>
</robot>
